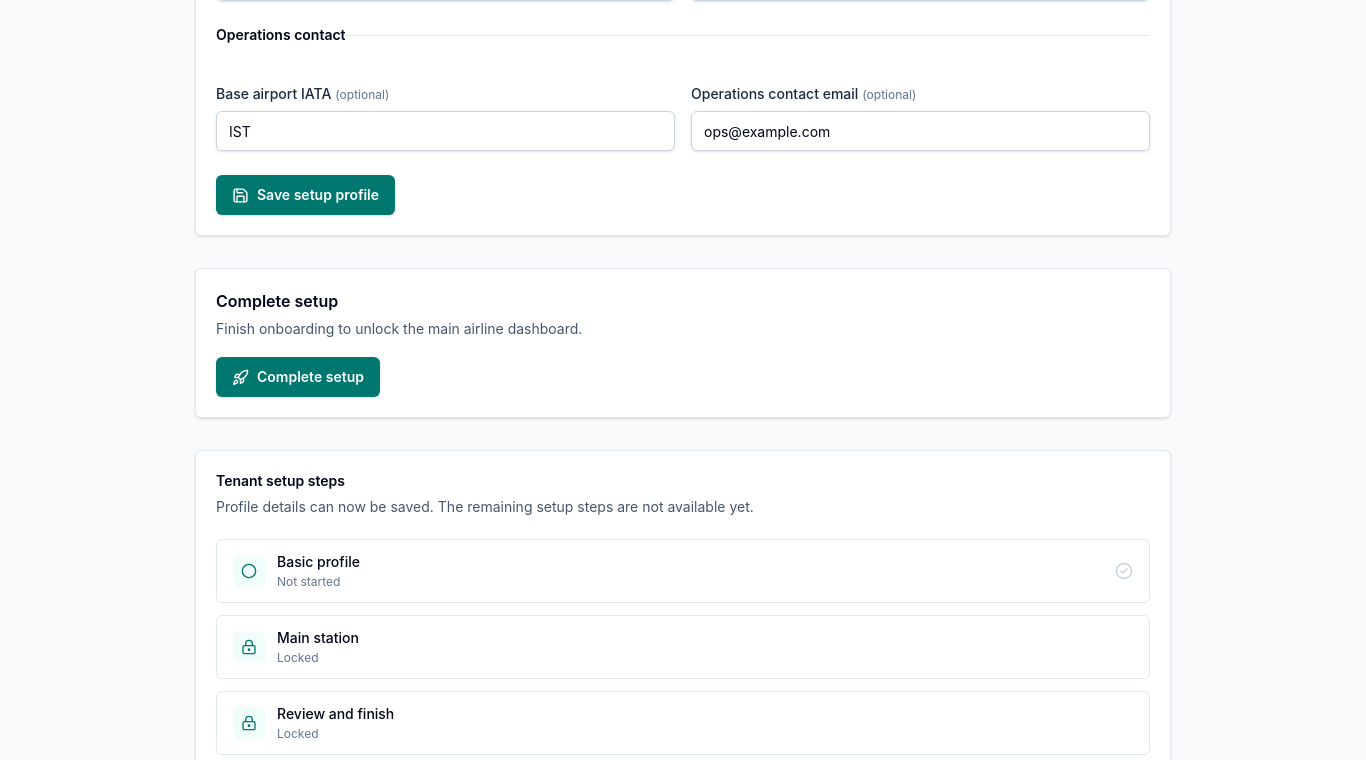
Test: AppSetupPage › keeps setup open and shows a safe message for SETUP_PROFILE_INCOMPLETE
(page scrolled)
Click the button "Complete setup" at point(298, 377), box [216,357,380,397]
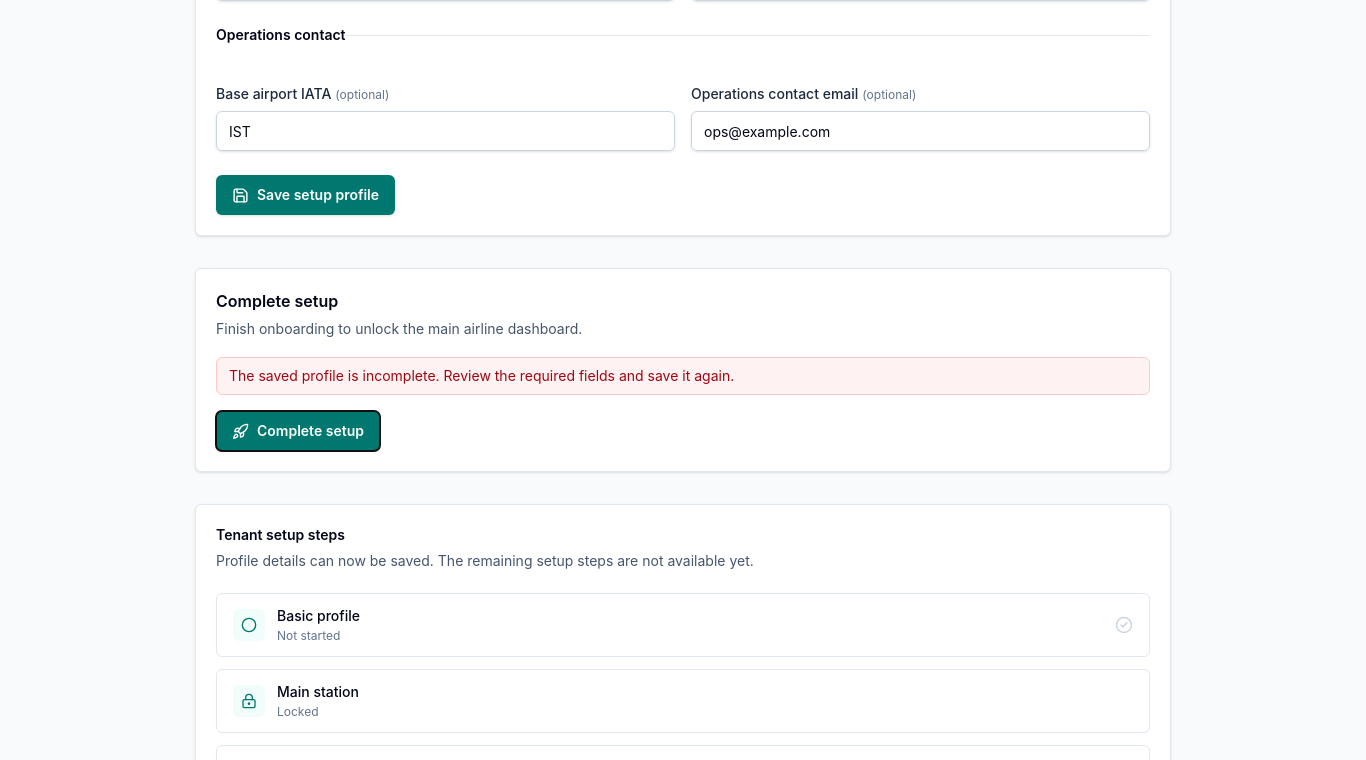
Expected: the button "Complete setup" is shown, [216,411,380,451]
Expected: the message reads "The saved profile is incomplete. Review the required fields and save it again.", [229,367,734,384]
